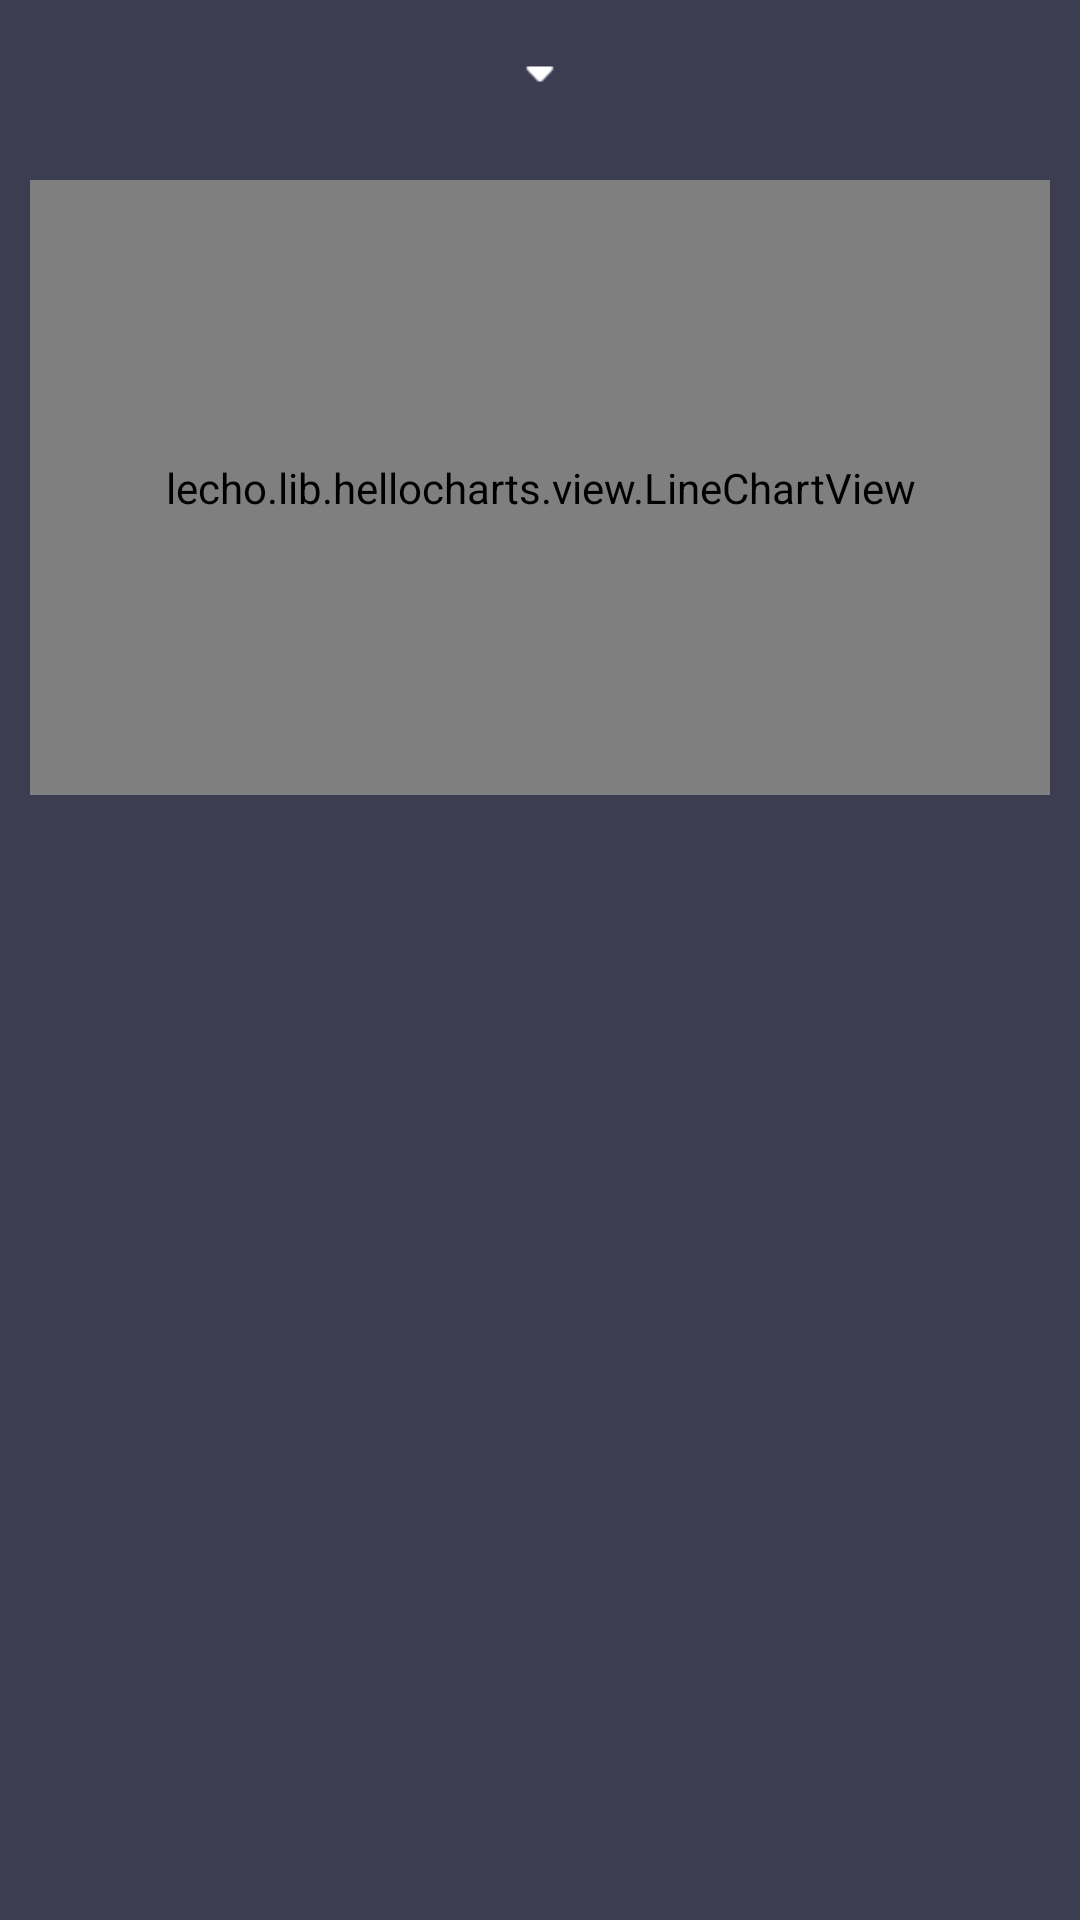

Named icons in this screenshot (1080*1920) and their bounding boxes, (x1, y1, x2, y2):
down: (526, 66, 554, 82)
